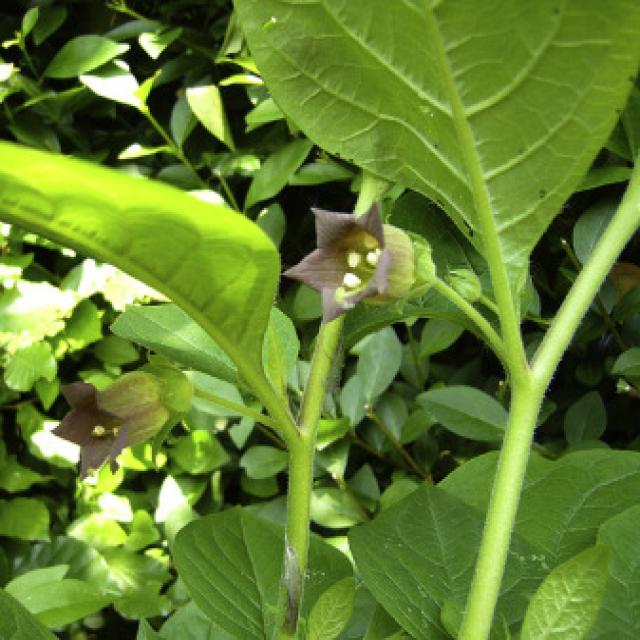Belladonna: (70, 25, 547, 618), (256, 157, 552, 406), (19, 318, 268, 504)
